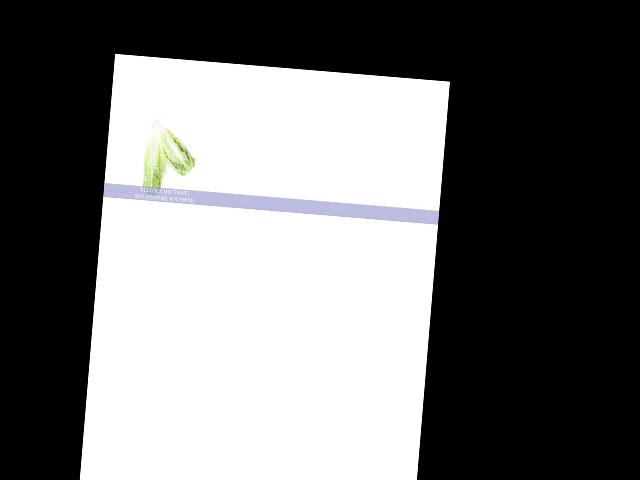lettuce: (145, 118, 197, 181)
